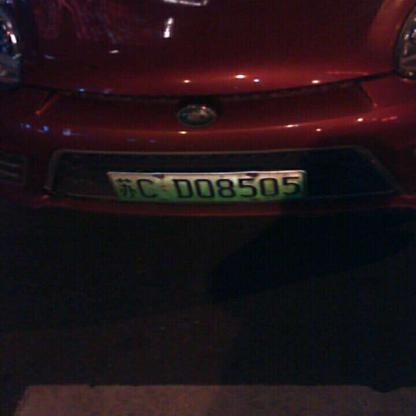lp: (110, 170, 304, 200)
